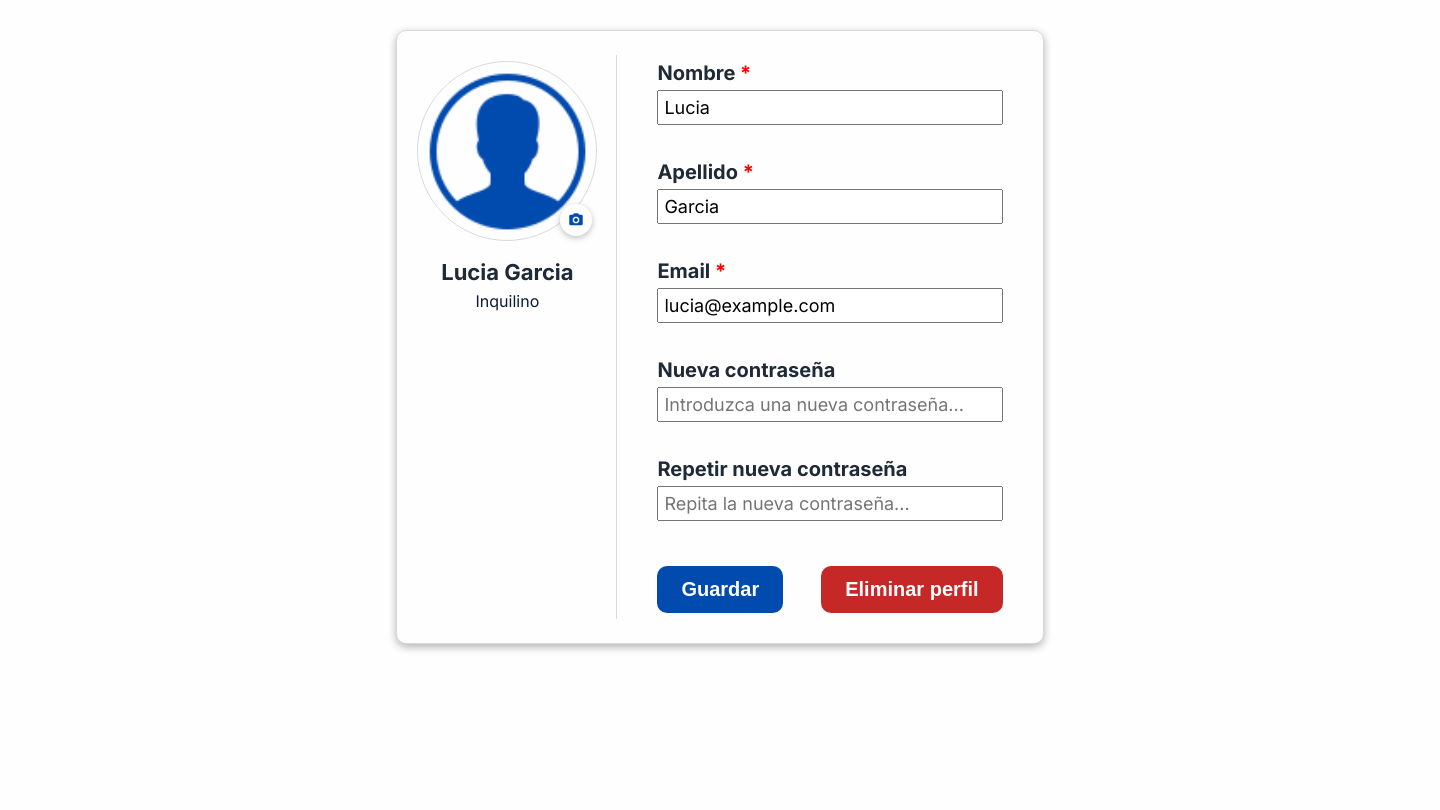
it: ProfileForm component test suite › opens delete confirmation for tenant and closes with cancel or overlay
This screenshot has width=1440, height=810.
Click the button "Eliminar perfil".
click(912, 590)  # box [821,566,1003,613]
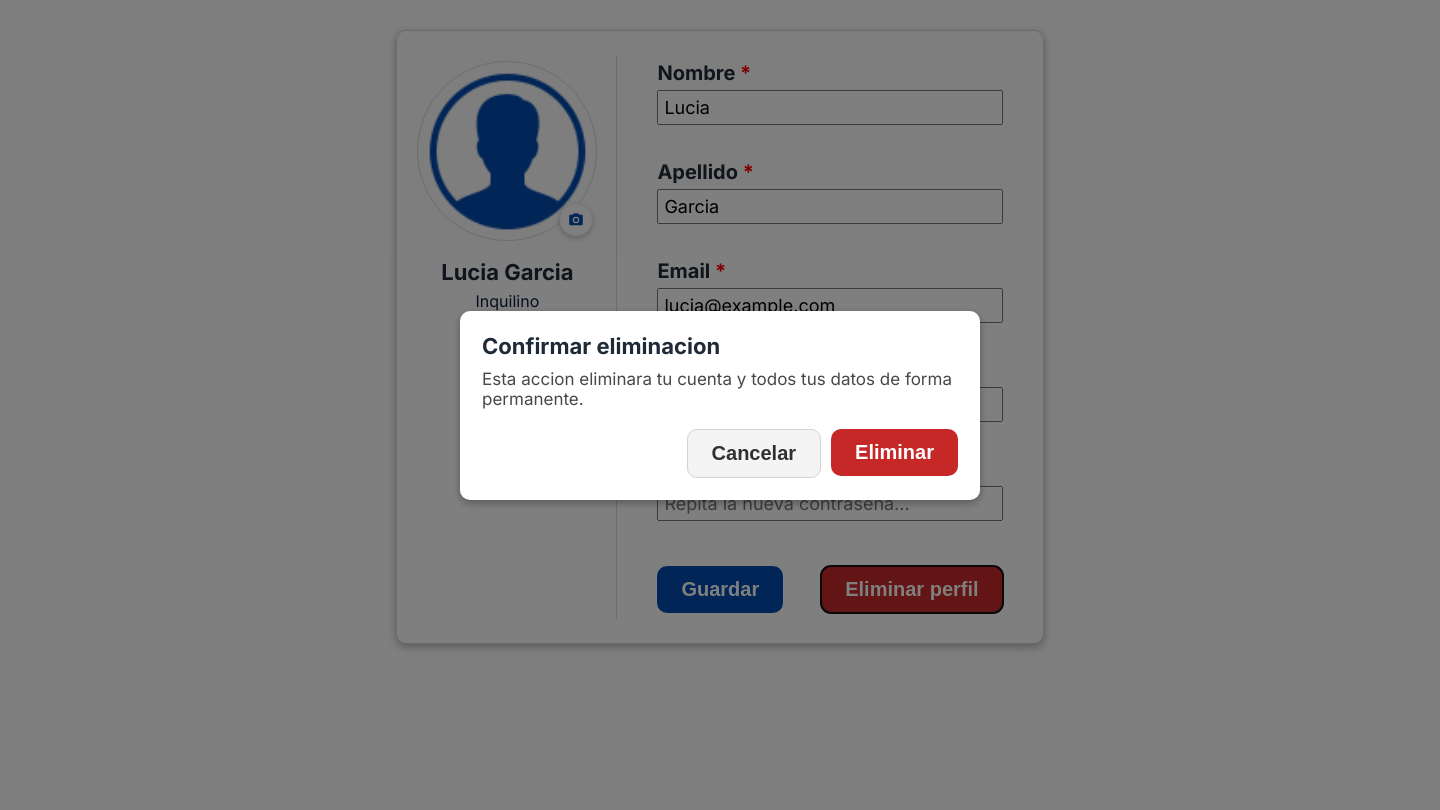
Result: the dialog "Confirmar eliminacion" is shown at [460,310,980,500]
Click the button "Cancelar".
click(754, 453)  # box [687,428,821,478]
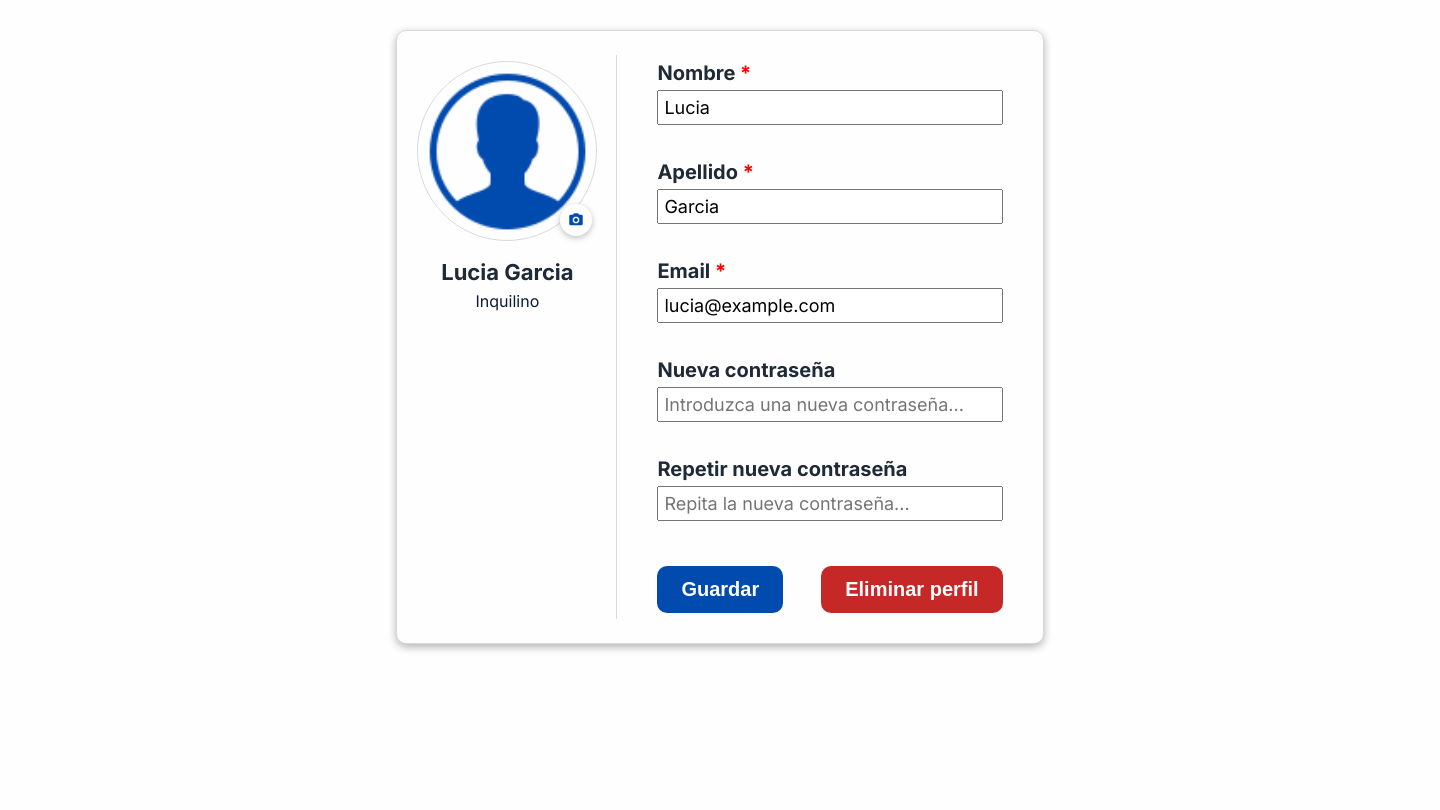
Result: the heading "Confirmar eliminacion" is gone
Click the button "Eliminar perfil".
click(912, 590)  # box [821,566,1003,613]
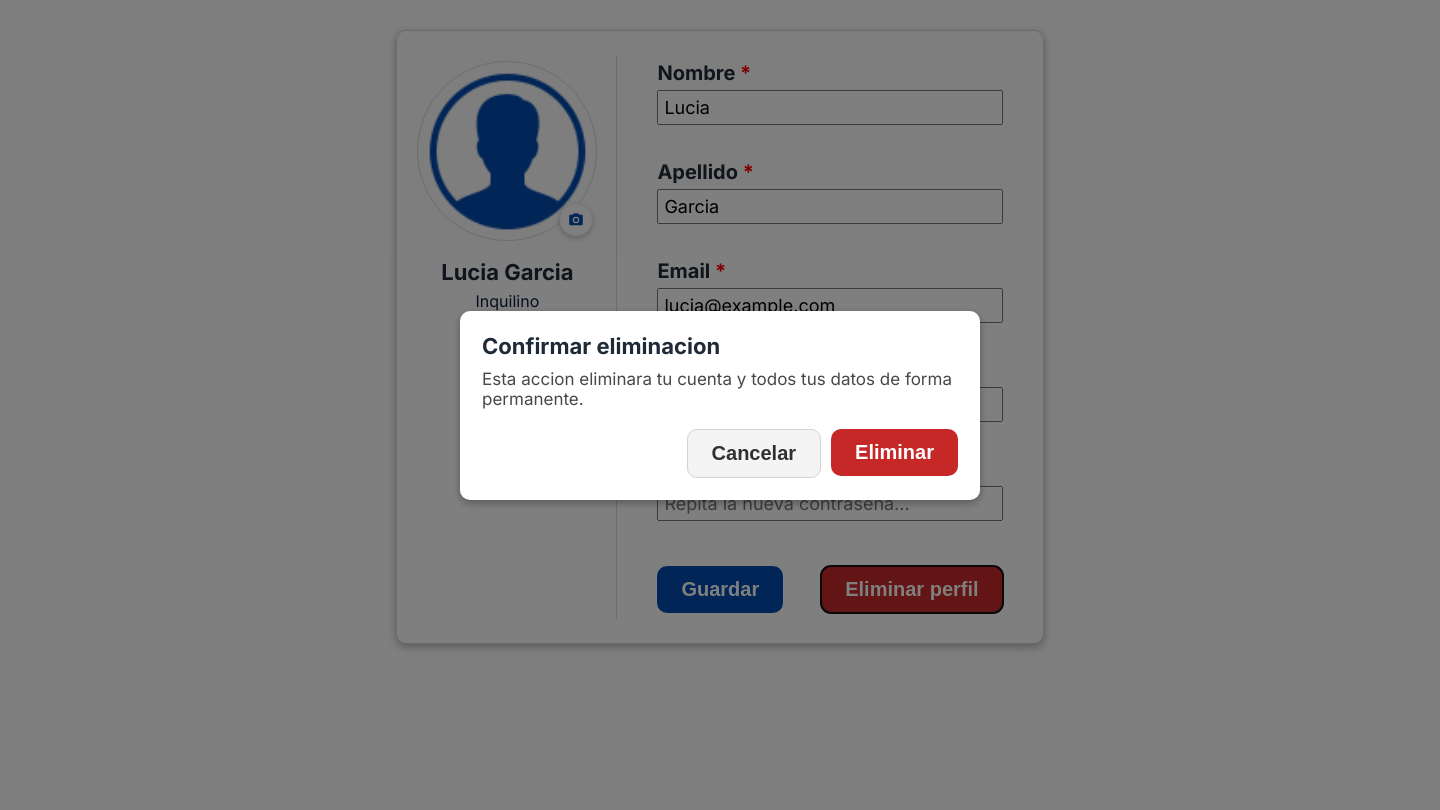
Click the element that starts with "Confirmar eliminacion".
click(86, 405)  # box [0,0,1439,809]
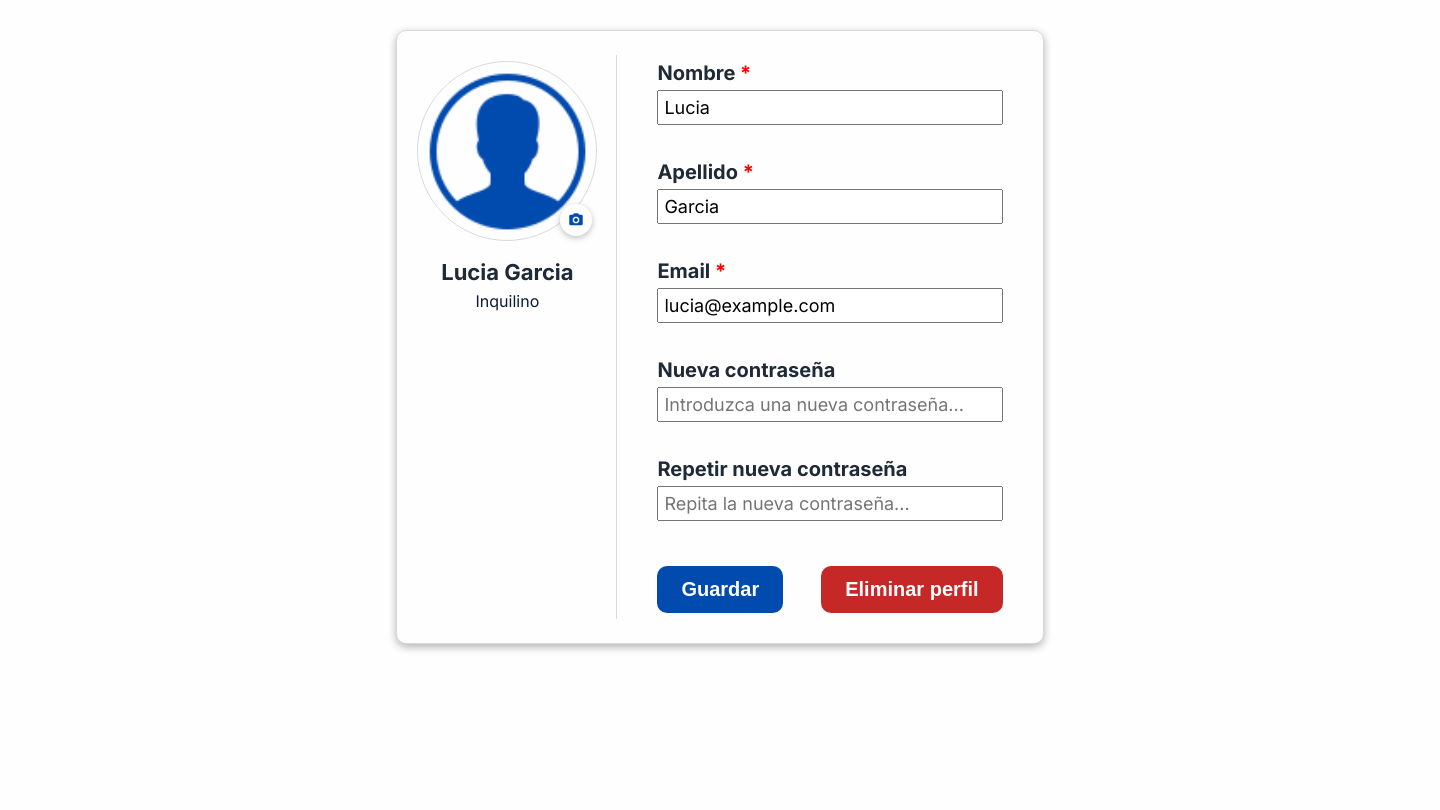
Result: the heading "Confirmar eliminacion" is gone
